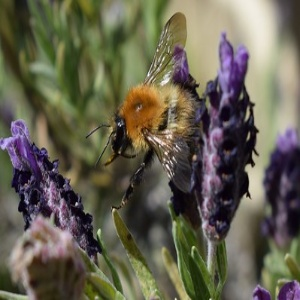bee: (83, 11, 196, 207)
